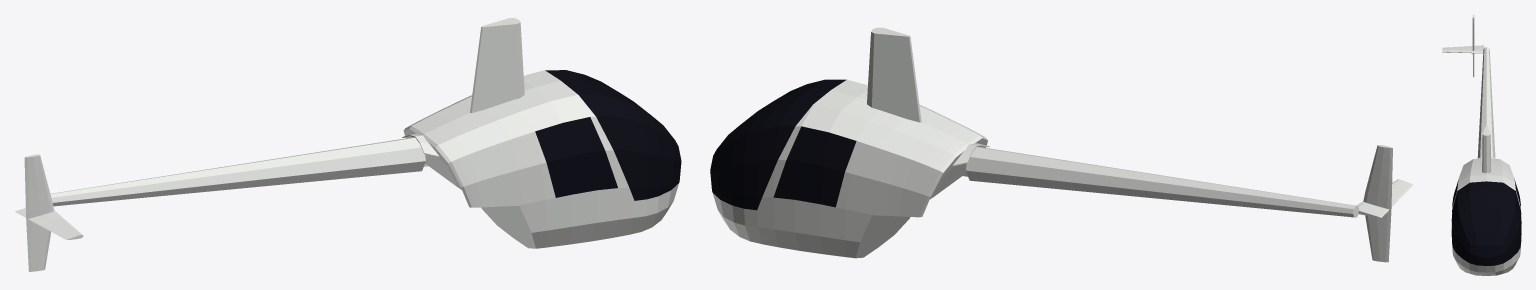
File: helicopter1_painted_parts_white.glb
3 renders of one model, left to right at view 1: azimuth 30°, elevation 25°; view 2: azimuth 150°, elevation 25°; view 3: azimuth 270°, elevation 25°, orthographic. The views are drawn at different scales.
Parts seen in each view (by area): view 1: HeliMainBody.005, HeliTail.002, RotorMast.002, TailVerStab.002, TailHorStab1.002; view 2: HeliMainBody.005, HeliTail.002, RotorMast.002, TailVerStab.002, TailHorStab1.002; view 3: HeliMainBody.005, HeliTail.002, RotorMast.002, TailHorStab1.002, TailVerStab.002.
Part boxes in pixels (box(x1,y1,x2,y2)): HeliMainBody.005: box(403, 70, 681, 248); HeliTail.002: box(50, 137, 425, 206); RotorMast.002: box(470, 18, 524, 112); TailVerStab.002: box(24, 154, 54, 271); TailHorStab1.002: box(15, 208, 83, 239); HeliMainBody.005: box(710, 79, 987, 258); HeliTail.002: box(966, 147, 1359, 217); RotorMast.002: box(867, 27, 921, 122); TailVerStab.002: box(1363, 145, 1392, 262); TailHorStab1.002: box(1356, 179, 1413, 217); HeliMainBody.005: box(1451, 158, 1521, 275); HeliTail.002: box(1477, 47, 1495, 157); RotorMast.002: box(1482, 125, 1491, 172); TailHorStab1.002: box(1442, 45, 1484, 53); TailVerStab.002: box(1472, 14, 1474, 77).
Bounding box in the file's own units: 6.84 × 2.23 × 1.42.
Materials: 3 (3 with a texture image).
